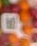2d: (6, 15, 19, 30)
